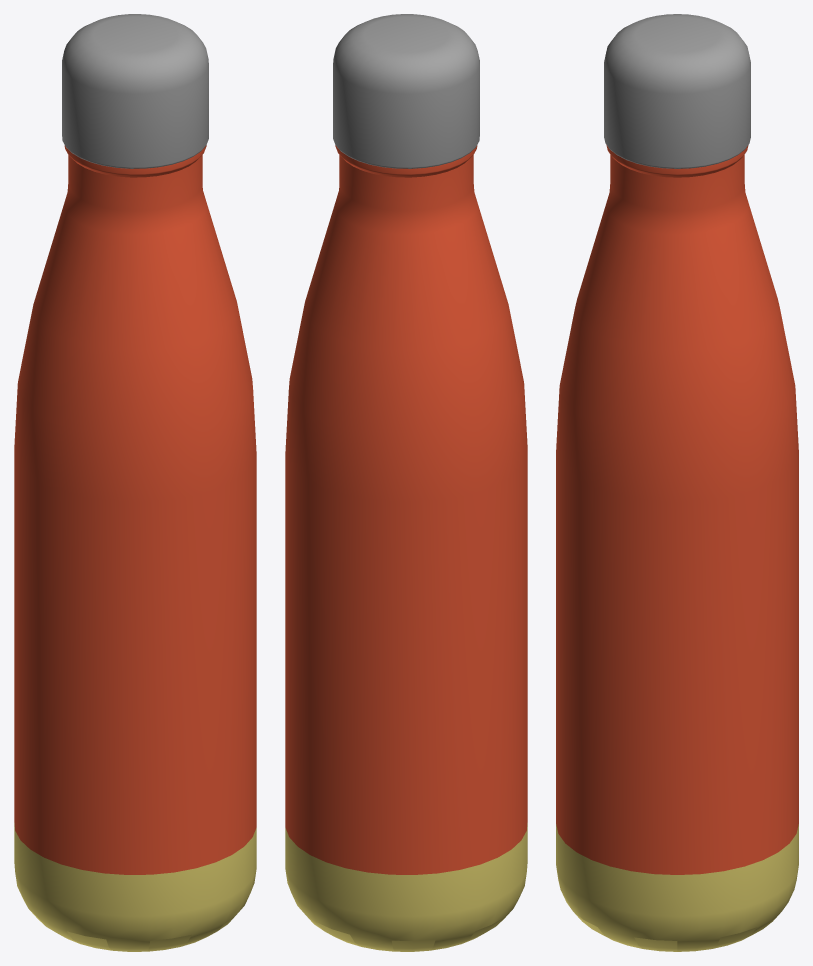
Rendered from bottleben.gltf.
The picture shows the model from 3 angles, left to right: view 1: azimuth 30°, elevation 25°; view 2: azimuth 150°, elevation 25°; view 3: azimuth 270°, elevation 25°; orthographic projection.
Visible parts, largest first — view 1: Cylinder, Cylinder.002, Cylinder.001; view 2: Cylinder, Cylinder.002, Cylinder.001; view 3: Cylinder, Cylinder.002, Cylinder.001.
Boxes of the visible parts, x1,y1,x2,y2 form: Cylinder: (14,145,256,874); Cylinder.002: (62,14,208,168); Cylinder.001: (14,823,256,951); Cylinder: (285,145,527,874); Cylinder.002: (333,14,479,168); Cylinder.001: (285,823,527,951); Cylinder: (556,145,798,874); Cylinder.002: (604,14,750,168); Cylinder.001: (556,824,798,951).
Size of the model in its own units: 2 by 8.06 by 2.
